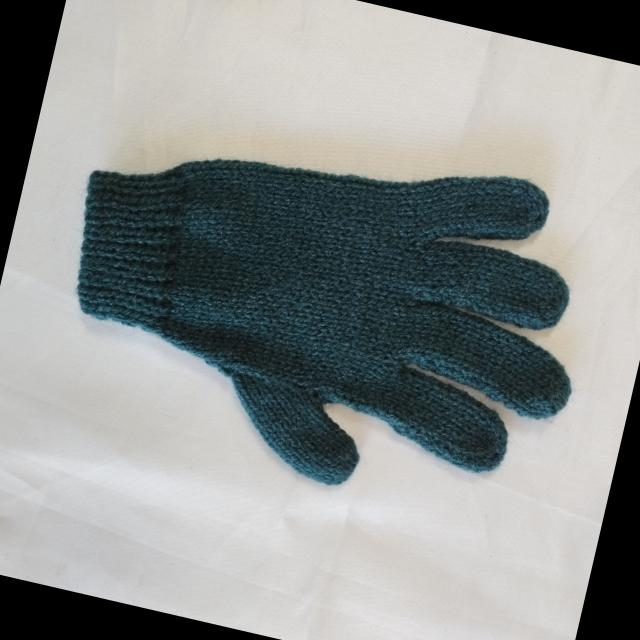Guante: (32, 81, 616, 534)
